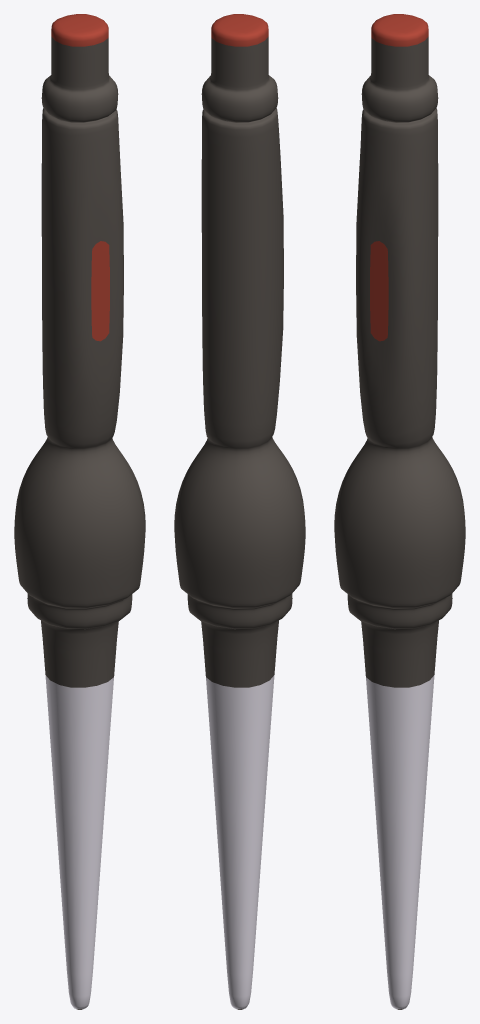
The model's file is Mikropipet 1.fbx.
3 views of the same model, side by side, from view 1: azimuth 30°, elevation 25°; view 2: azimuth 150°, elevation 25°; view 3: azimuth 330°, elevation 25° (orthographic).
Visible parts, largest first — view 1: Cube.059; view 2: Cube.059; view 3: Cube.059.
Boxes of the visible parts, box(x1,y1,x2,y2) form: Cube.059: box(14, 14, 145, 1009); Cube.059: box(174, 14, 305, 1009); Cube.059: box(334, 14, 465, 1009).
Size of the model in its own units: 0.0222 by 0.1851 by 0.0222.
